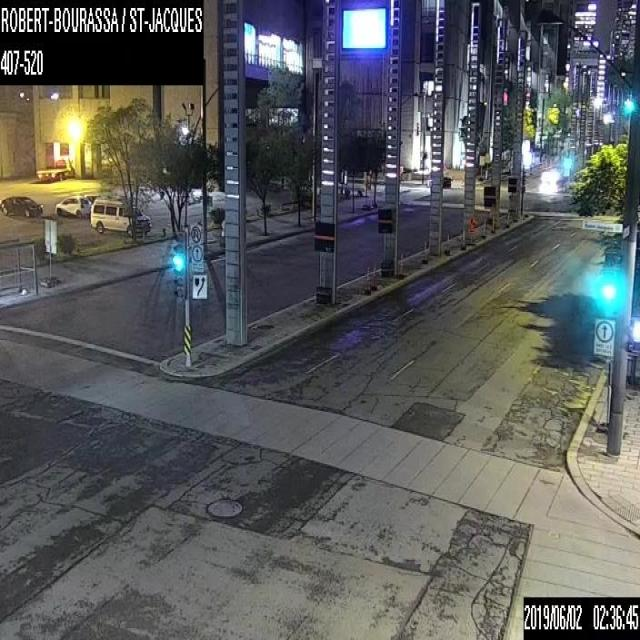construction: (464, 216, 480, 245), (445, 232, 450, 252), (422, 236, 426, 260), (400, 254, 404, 274), (365, 265, 368, 291), (372, 266, 375, 286), (491, 218, 494, 234), (483, 218, 486, 234), (514, 204, 517, 219), (505, 213, 508, 226)
vehicle: (88, 194, 150, 233), (36, 157, 75, 182), (0, 195, 43, 217), (53, 194, 93, 217)
